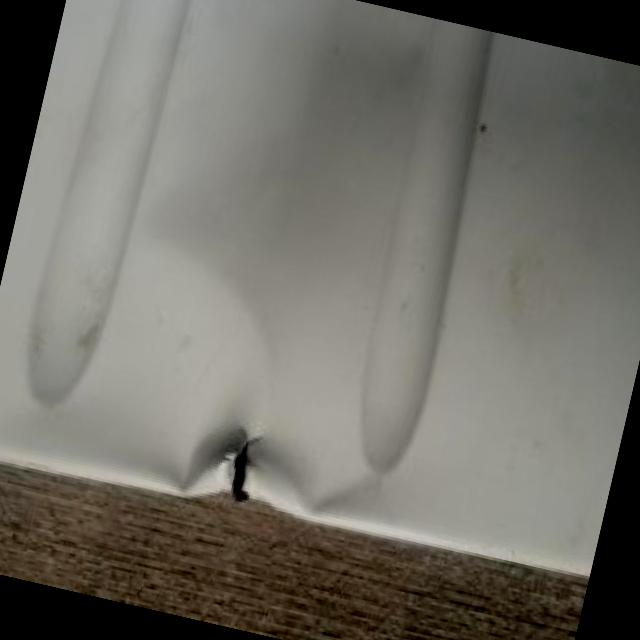crack: (202, 418, 274, 516)
